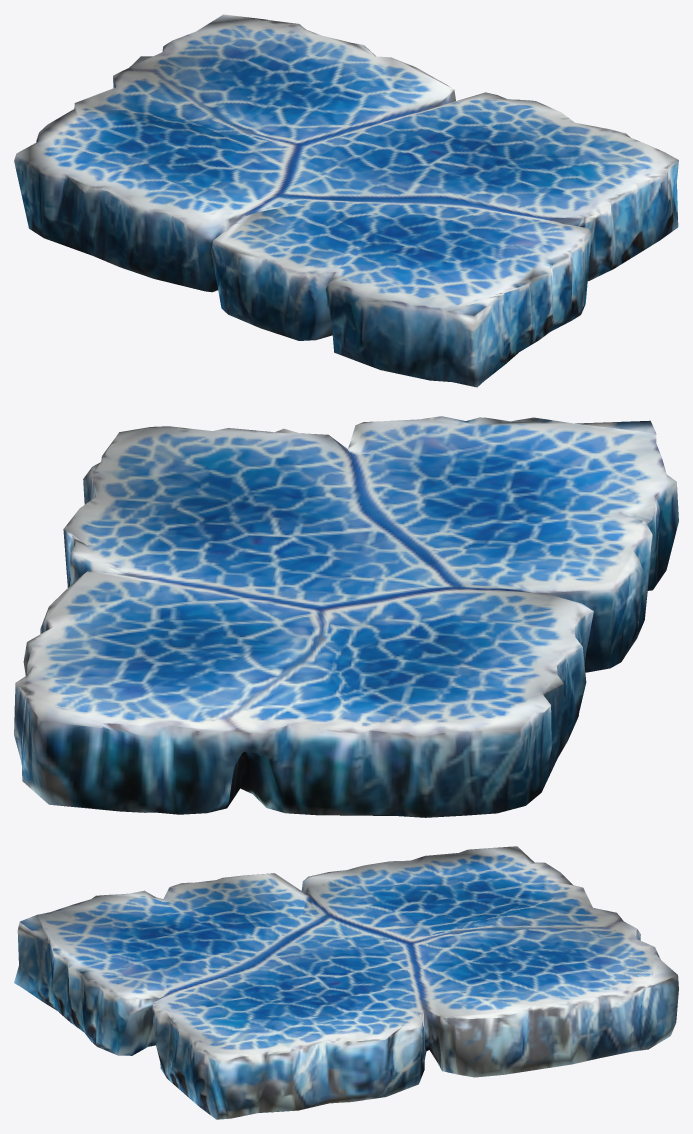
File: BossRoom_IcePlatform.fbx
3 views of the same model, one above another, from view 1: azimuth 30°, elevation 25°; view 2: azimuth 150°, elevation 25°; view 3: azimuth 270°, elevation 25° (orthographic). The views are drawn at different scales.
Visible parts, largest first — view 1: BossRoom_IcePlatform_Mesh; view 2: BossRoom_IcePlatform_Mesh; view 3: BossRoom_IcePlatform_Mesh.
Part boxes in pixels (bbox=[...]): BossRoom_IcePlatform_Mesh: bbox=[14, 14, 678, 387]; BossRoom_IcePlatform_Mesh: bbox=[14, 416, 678, 817]; BossRoom_IcePlatform_Mesh: bbox=[14, 846, 678, 1119].
Size of the model in its own units: 4.56 by 0.6946 by 6.
Materials: 1 (1 with a texture image).
